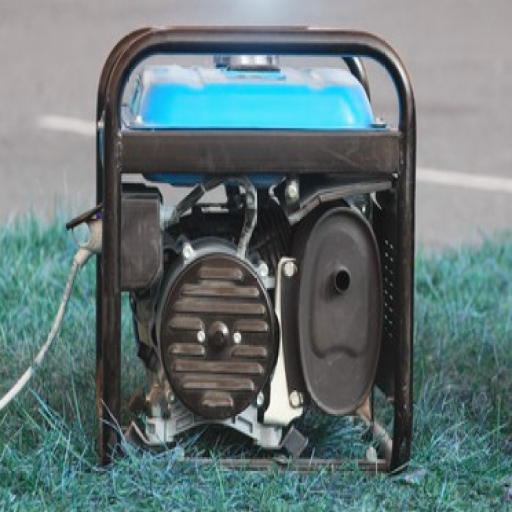portable_generator: (89, 24, 417, 475)
